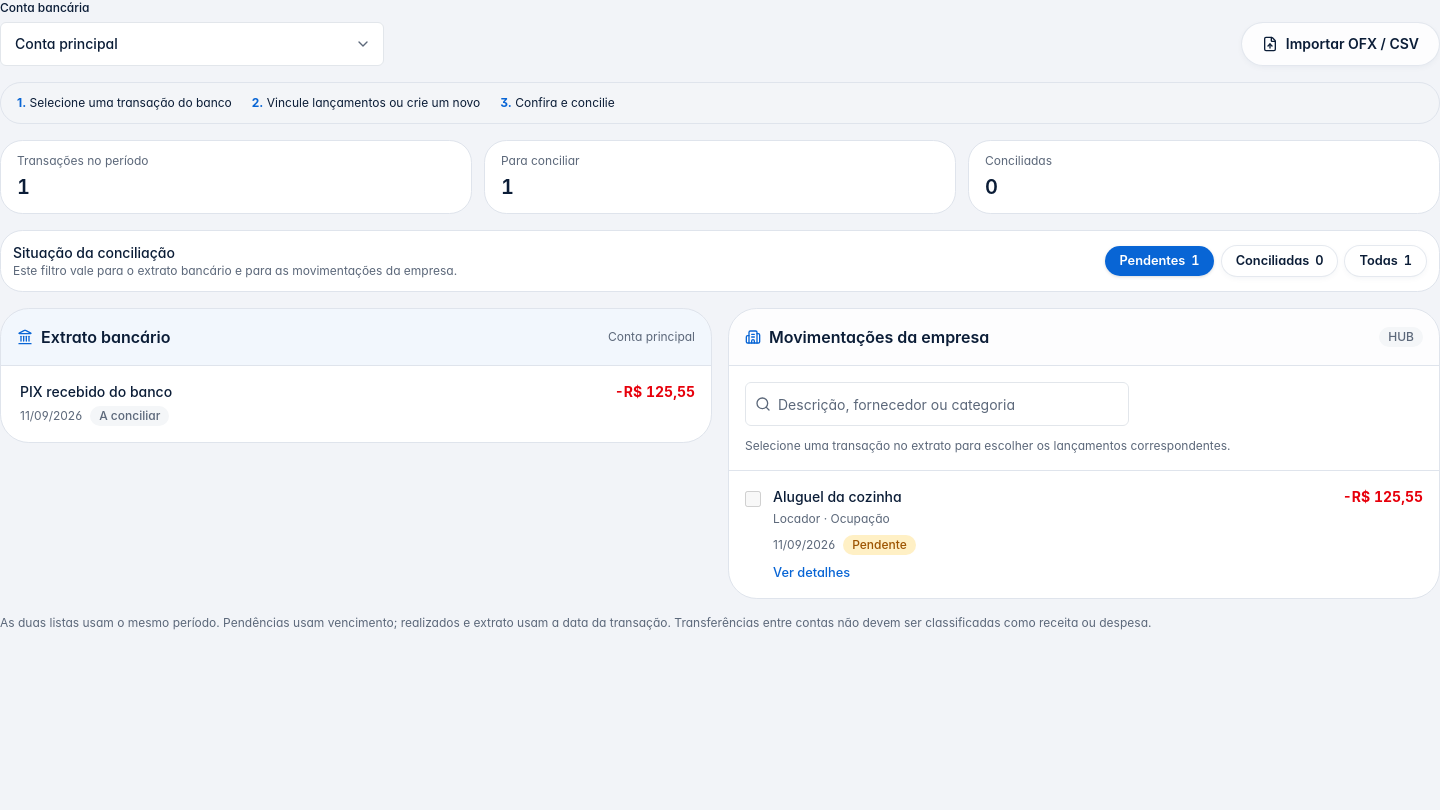
explica o recebimento na origem e bloqueia seleção de pedido pendente
Click the button with aria-label "Conferir PIX recebido do banco".
click(96, 392)  # box [1, 366, 711, 442]
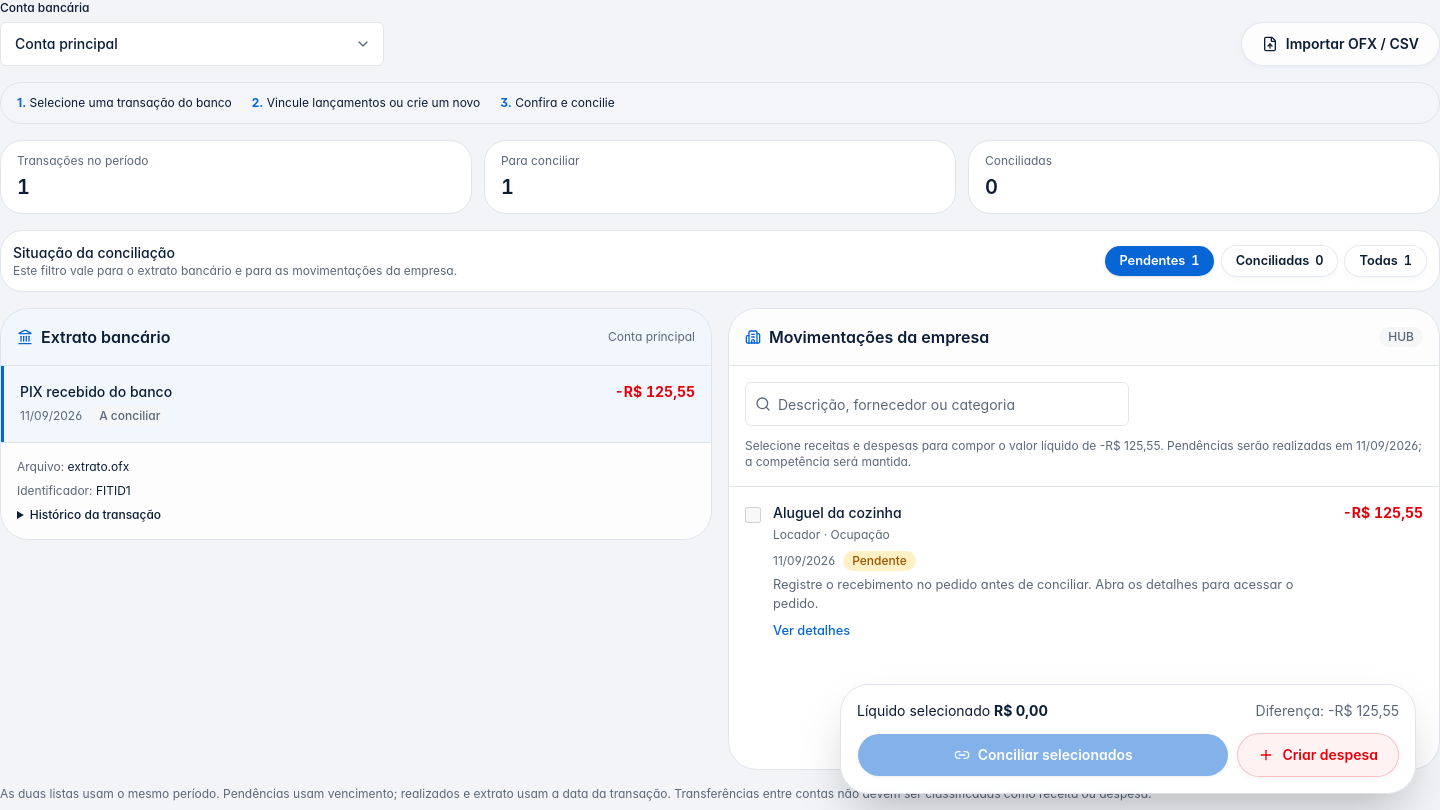
expect the checkbox named "Selecionar Aluguel da cozinha" is disabled: met, box [745, 507, 761, 523]
expect the text "Registre o recebimento no pedido antes de conciliar" is shown: met, box [773, 577, 1294, 611]
Click the button with aria-label "Ver detalhes de Aluguel da cozinha".
click(837, 512)  # box [765, 495, 1431, 649]
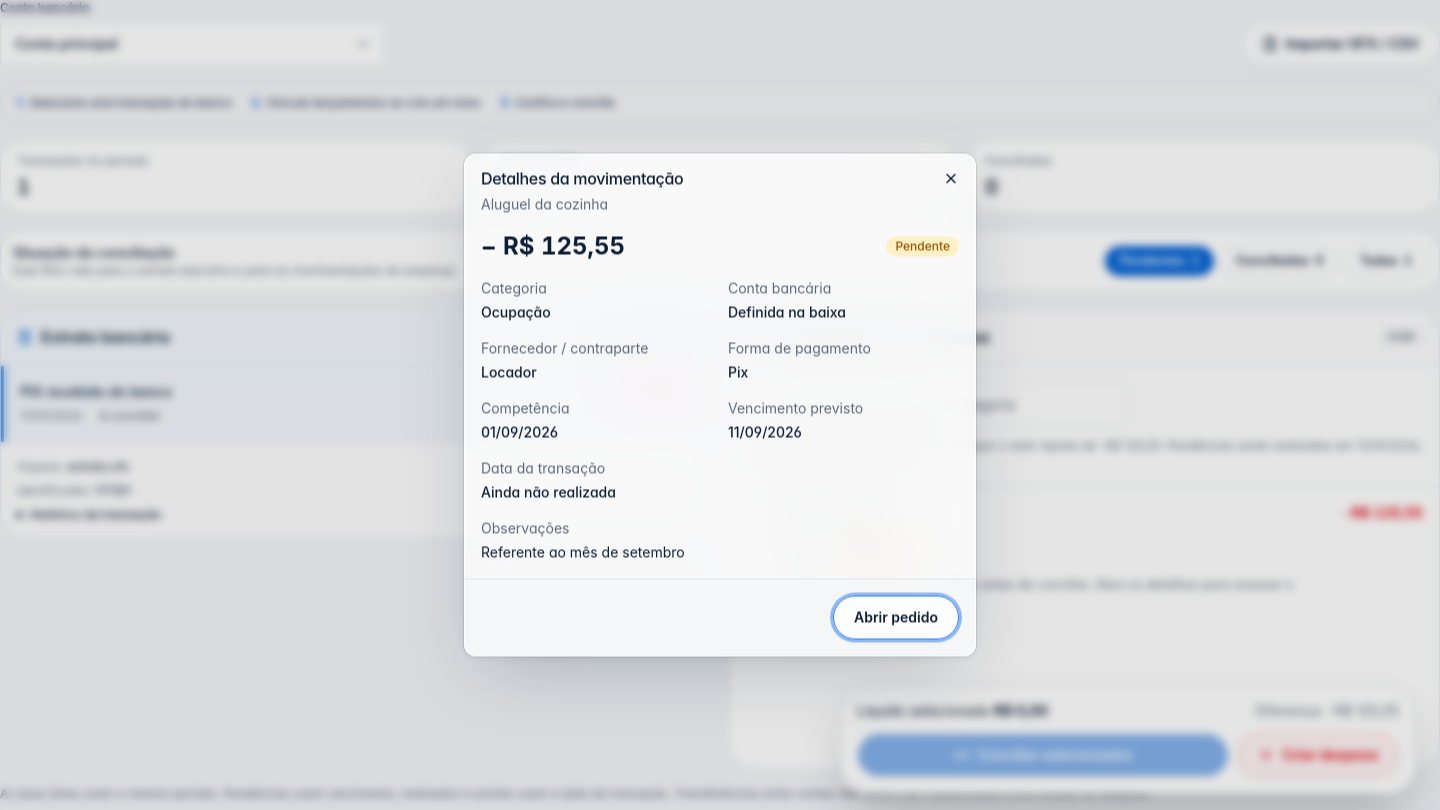
expect the button "Abrir pedido" is shown: met, box [833, 596, 959, 640]
